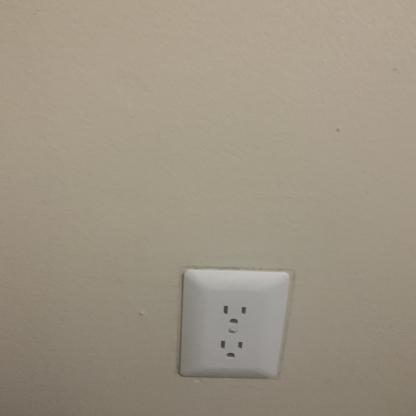OUTLET: (181, 269, 286, 379)
